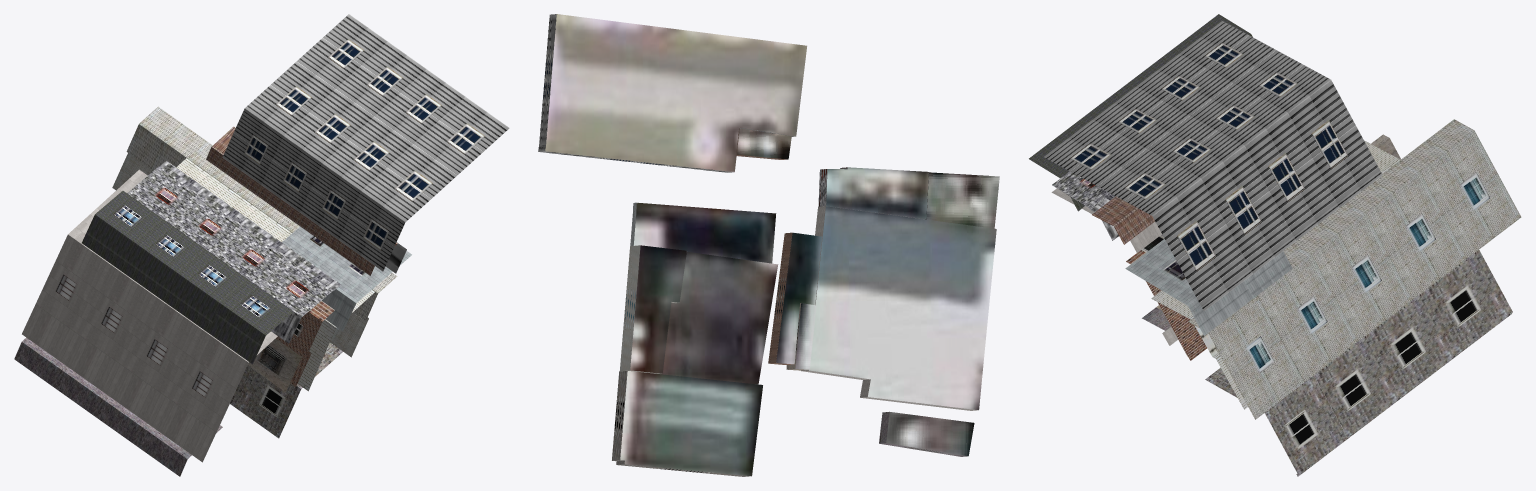
The picture shows the model from 3 angles, left to right: view 1: azimuth 30°, elevation 25°; view 2: azimuth 150°, elevation 25°; view 3: azimuth 270°, elevation 25°; orthographic projection. The views are drawn at different scales.
Size of the model in its own units: 28.45 by 24.24 by 25.43.
Materials: 42 (42 with a texture image).
